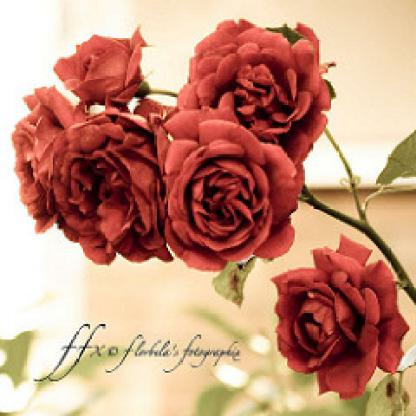ROSE-MAWAR: (10, 20, 408, 396)
